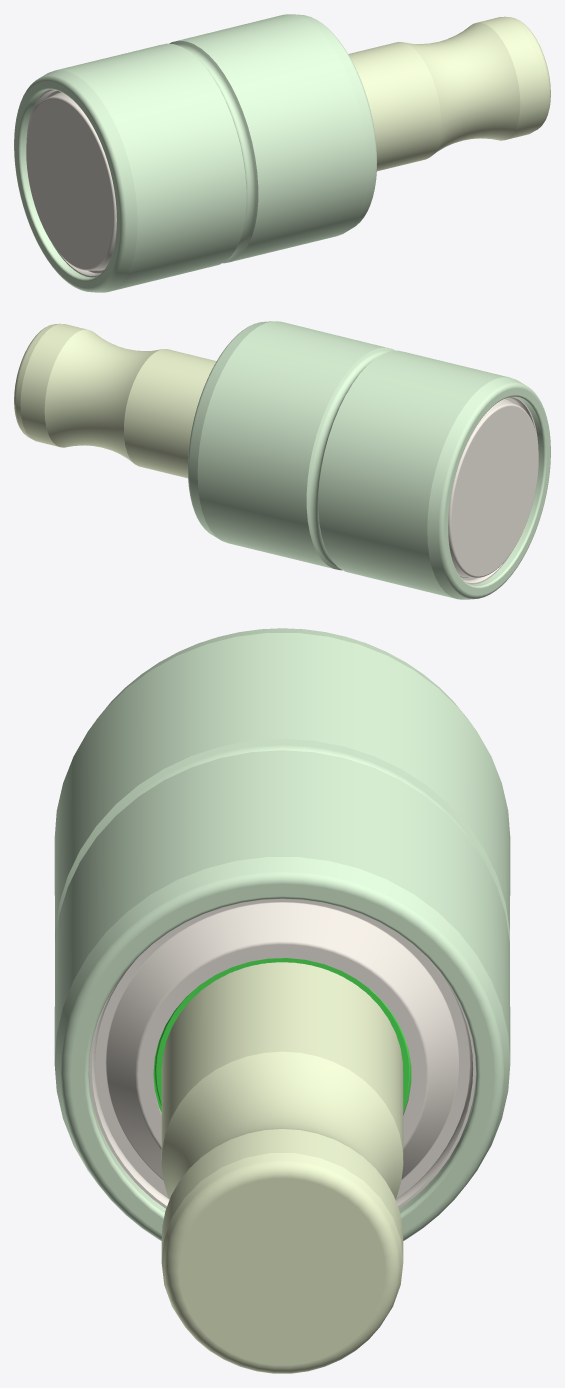
3 views of the same model, one above another, from view 1: azimuth 30°, elevation 25°; view 2: azimuth 150°, elevation 25°; view 3: azimuth 270°, elevation 25° (orthographic). The views are drawn at different scales.
Visible parts, largest first — view 1: color-2, color, color-6; view 2: color-2, color, color-6; view 3: color-2, color, color-6, color-5.
Part boxes in pixels (x1=…): color-2: x1=14, y1=14, x2=376, y2=292; color: x1=348, y1=16, x2=550, y2=171; color-6: x1=26, y1=89, x2=116, y2=277; color-2: x1=188, y1=321, x2=550, y2=599; color: x1=14, y1=323, x2=216, y2=478; color-6: x1=448, y1=396, x2=538, y2=584; color-2: x1=54, y1=628, x2=510, y2=1240; color: x1=161, y1=962, x2=403, y2=1373; color-6: x1=89, y1=899, x2=475, y2=1208; color-5: x1=153, y1=958, x2=411, y2=1112.
Size of the model in its own units: 0.0694 by 0.03 by 0.03.
